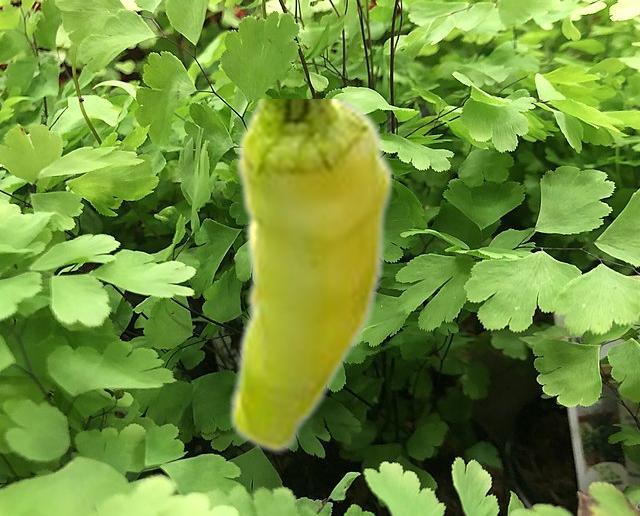green_chili: (227, 99, 394, 453)
